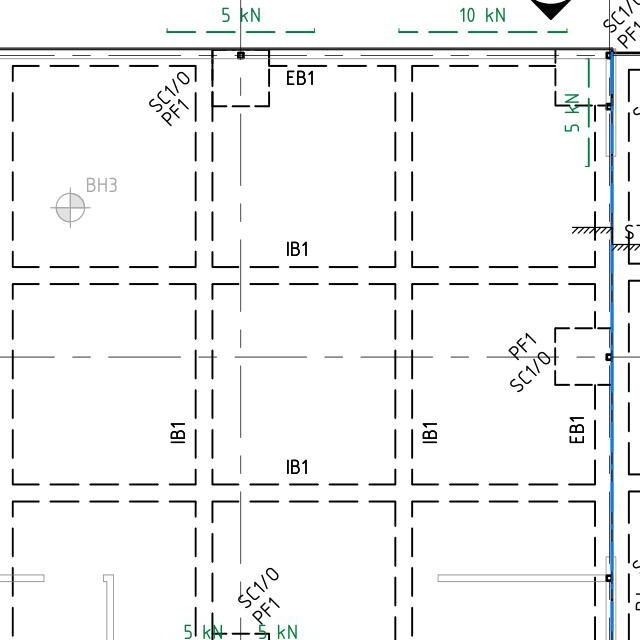EB1: (277, 65, 322, 92), (565, 414, 591, 446)
IB1: (276, 453, 322, 482), (277, 236, 317, 263), (415, 419, 448, 450), (169, 420, 198, 448)
PF1: (501, 320, 548, 361), (156, 103, 188, 138)
SC1-0: (225, 558, 277, 597), (140, 65, 186, 100), (509, 355, 553, 388), (598, 0, 640, 25)
